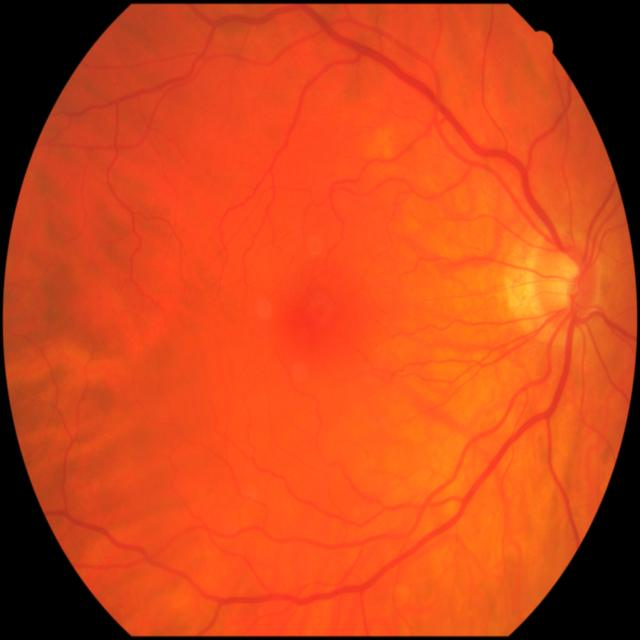OC: (550, 256, 580, 306)
OD: (534, 230, 603, 326)
